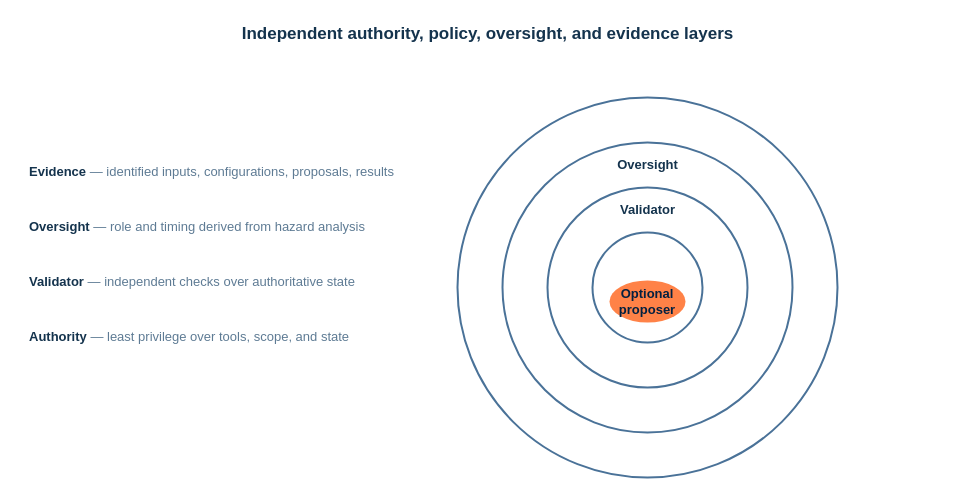
Image size: 974x495. Some labels were removed from this diagram. Here are the shapes that lost their labels. From the top down, the box of each, then its label:
(591, 231, 703, 343): Authority
(456, 96, 838, 478): Evidence
